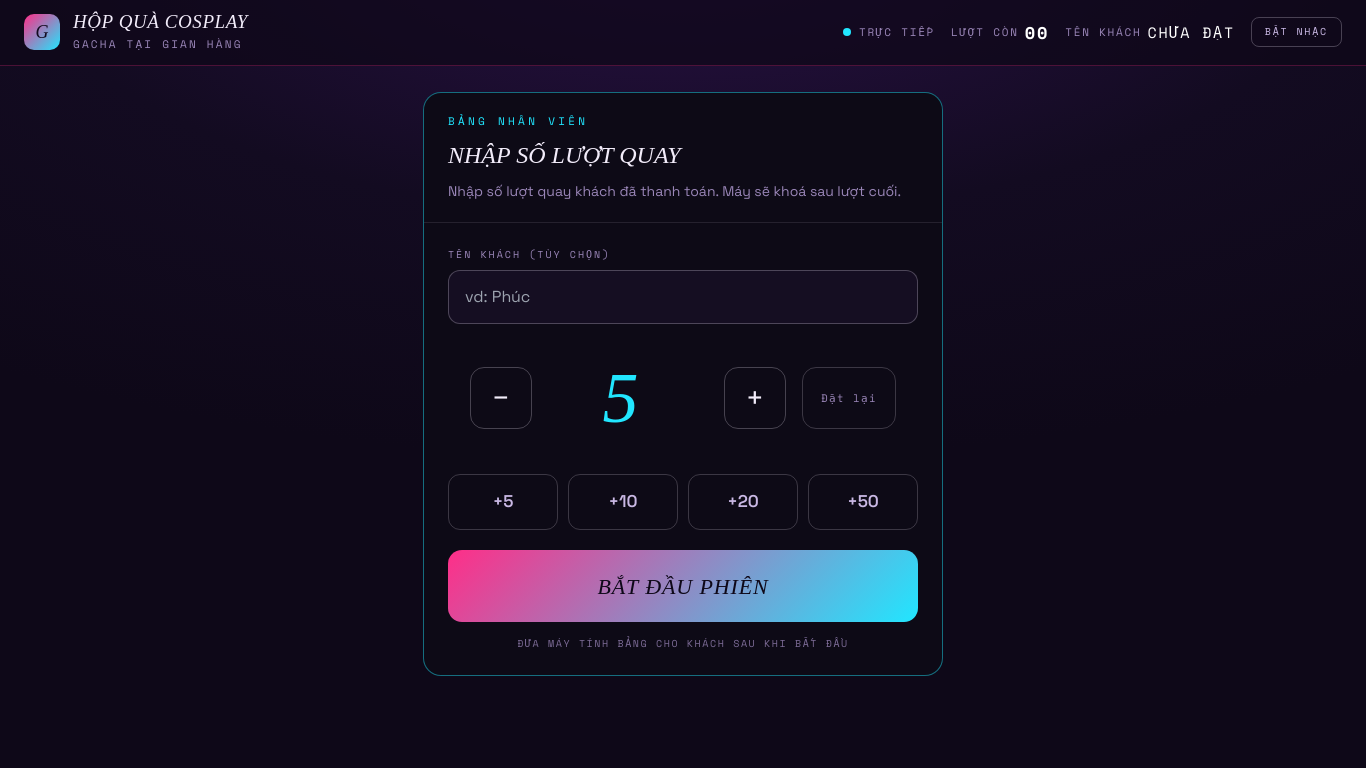
it: GachaKiosk › resets the turn count back to the default via the reset button
Check: the number field with id "kiosk-turns" holds "5", box [548, 344, 708, 452]
Click the button "+" at (755, 398), box [724, 367, 786, 429]
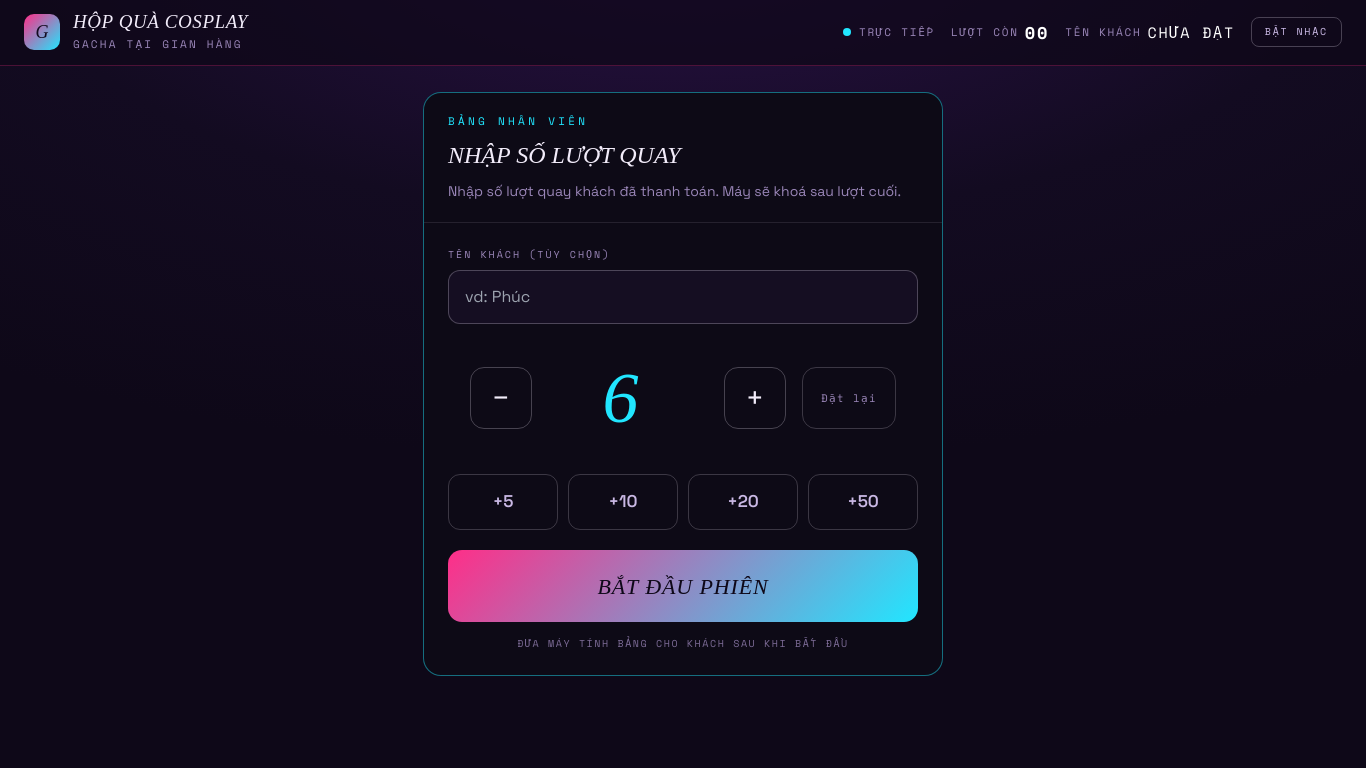
Click the button "+" at (755, 398), box [724, 367, 786, 429]
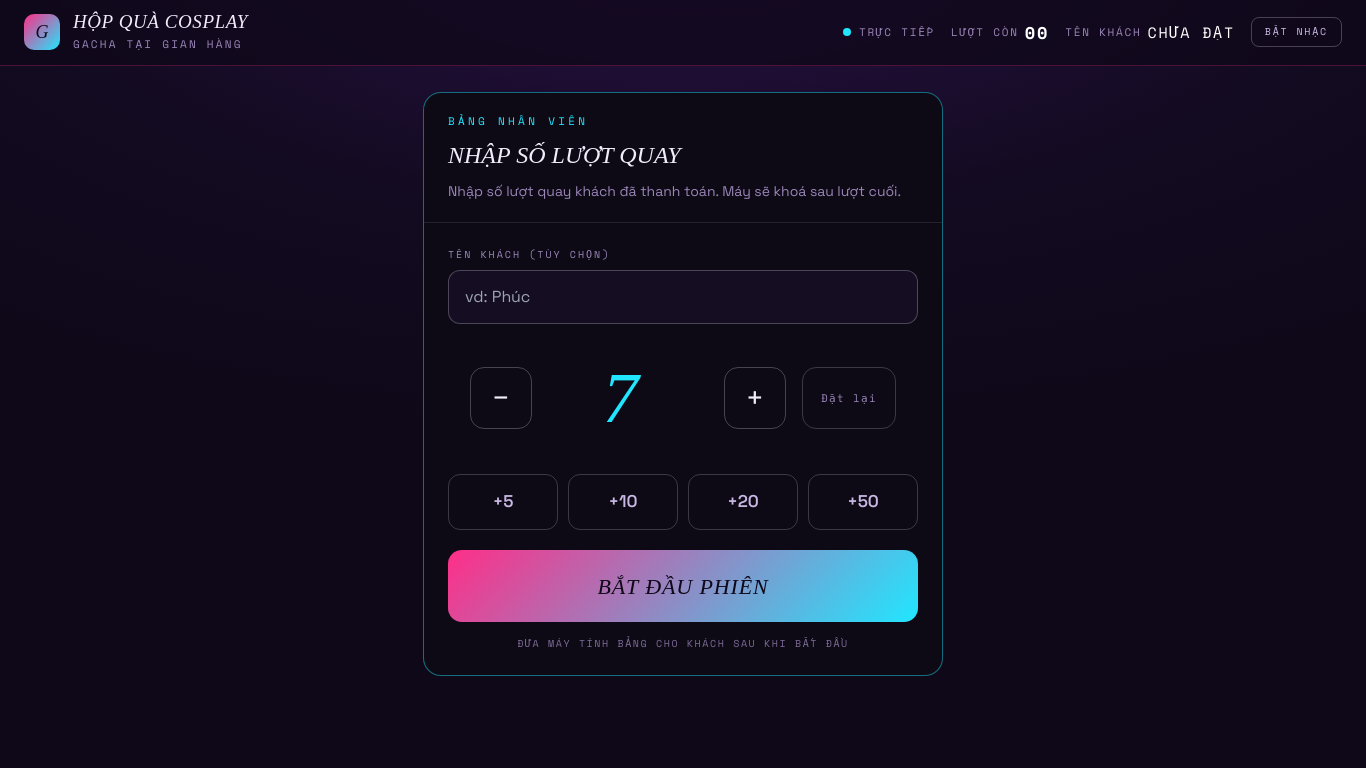
Check: the number field with id "kiosk-turns" holds "7", box [548, 344, 708, 452]
Click the button "Đặt lại" at (849, 398), box [802, 367, 896, 429]
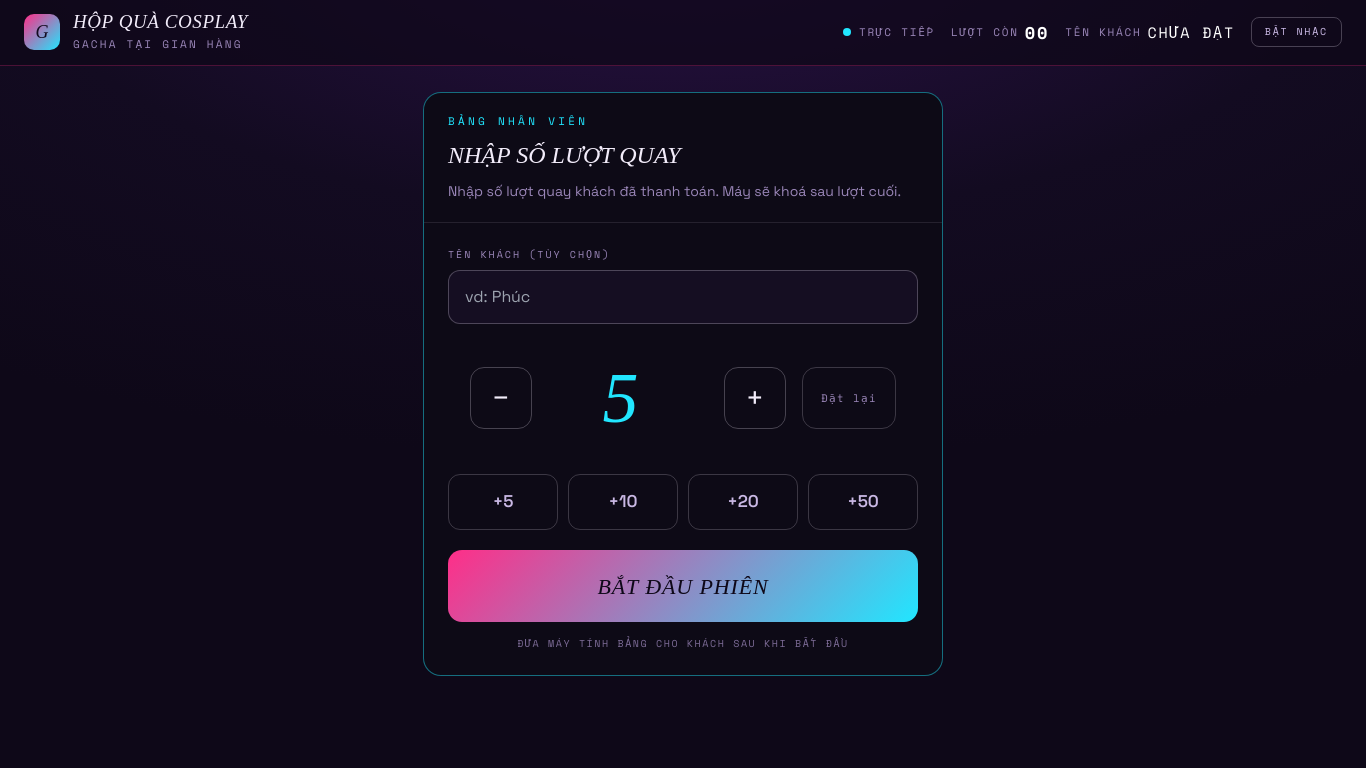
Check: the number field with id "kiosk-turns" holds "5", box [548, 344, 708, 452]
